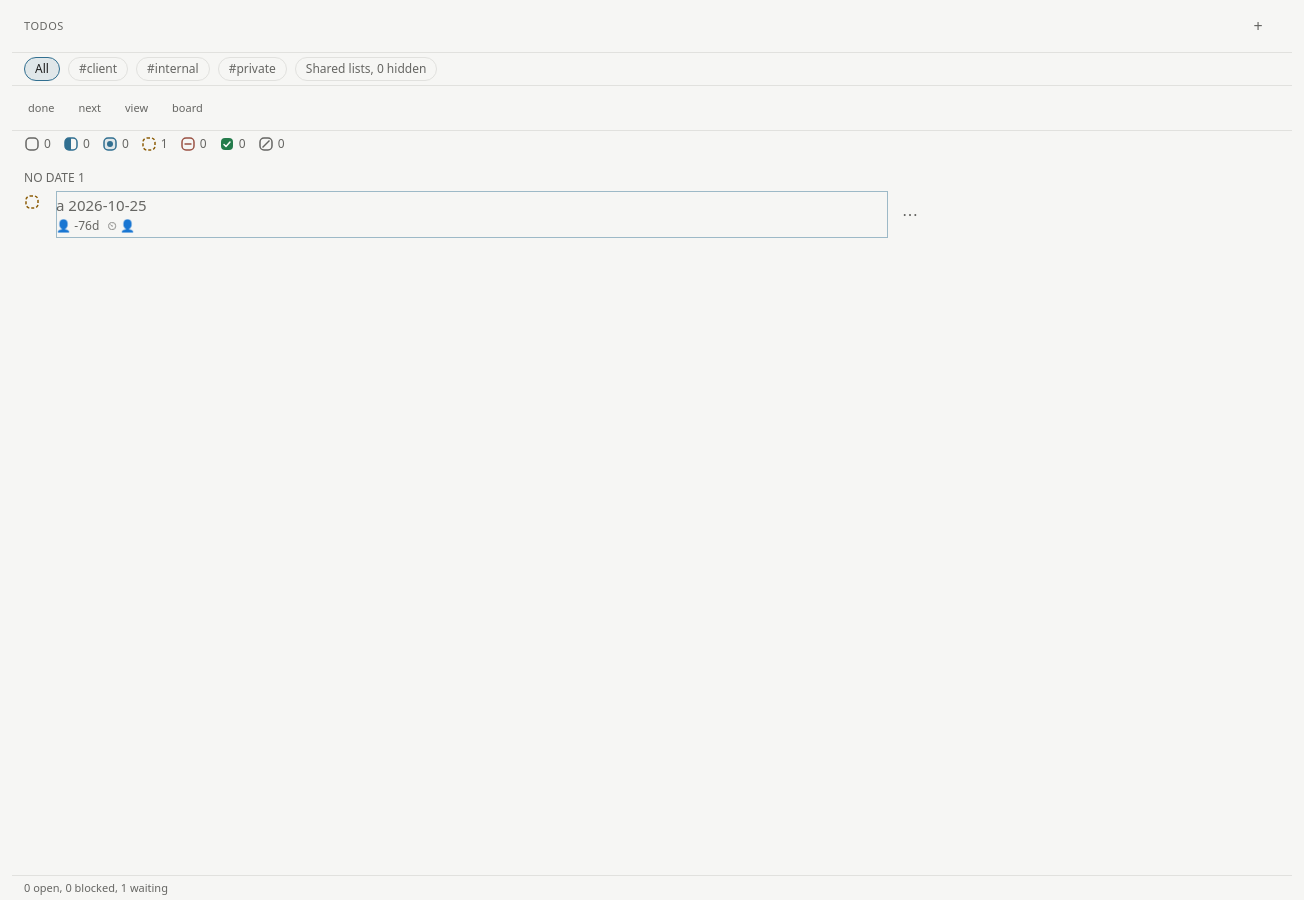
#1021 the name place with vim off and by touch › #1021 I6 by touch edit on a waiting row with an estimate that takes the 👤 puts the cursor after the wait stamp
Step 1. Click the button "⋯" → click(910, 214), box [888, 191, 932, 238]
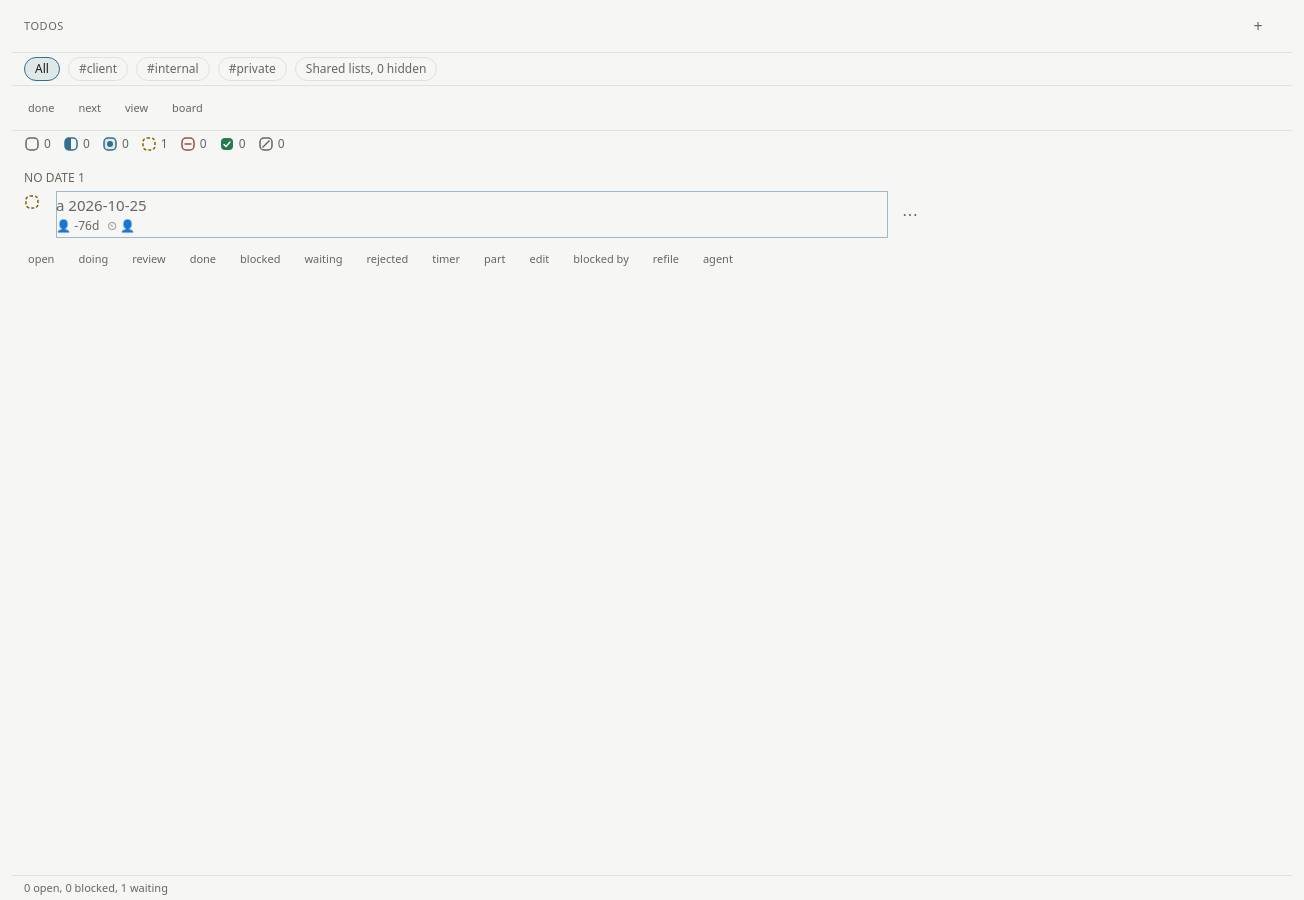
Step 2. Click the button "edit" → click(540, 260), box [518, 238, 561, 282]
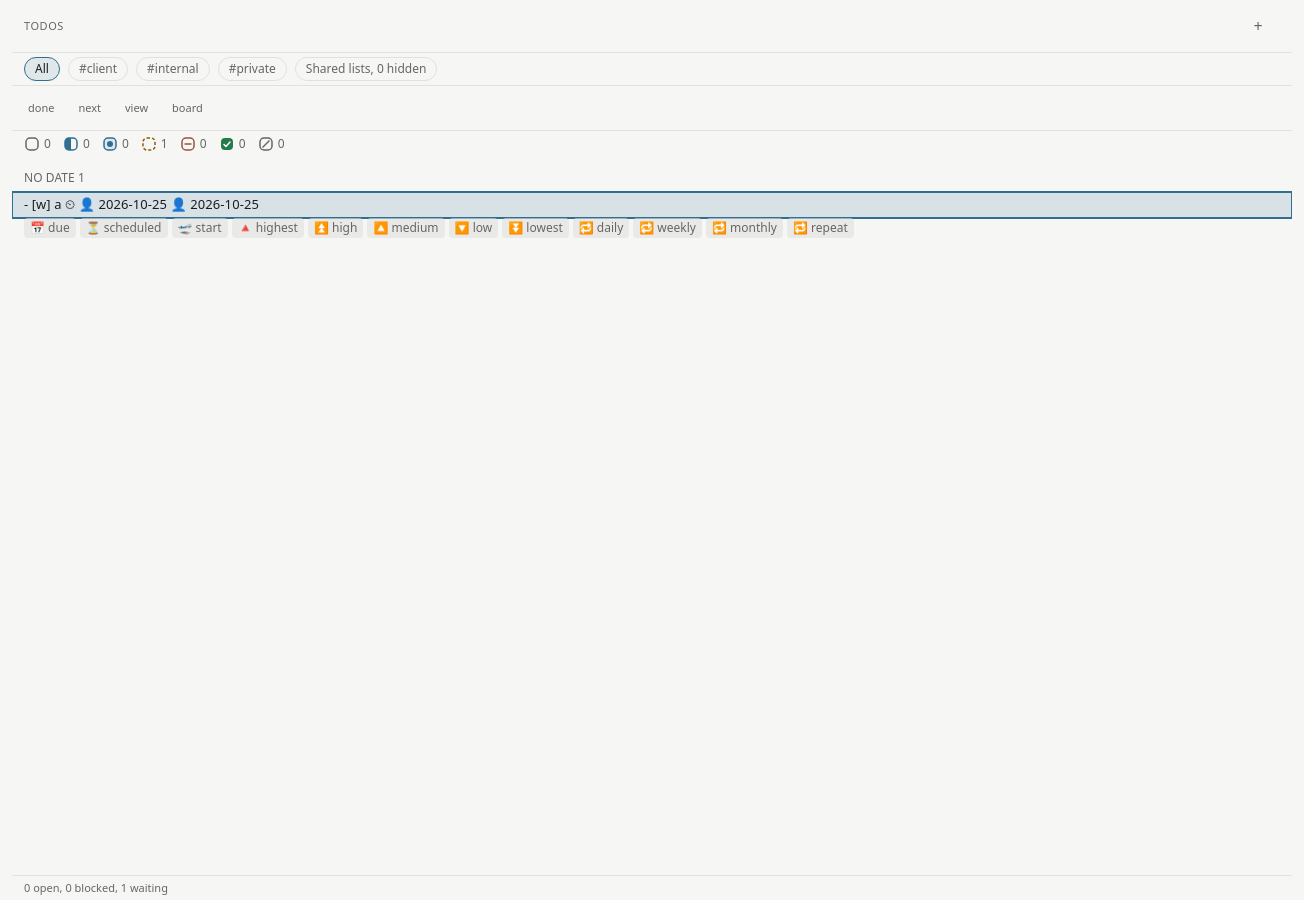
Expected: the field named "edit line" holds "- [w] a ⏲ 👤 2026-10-25 👤 2026-10-25", [12, 192, 1292, 218]
